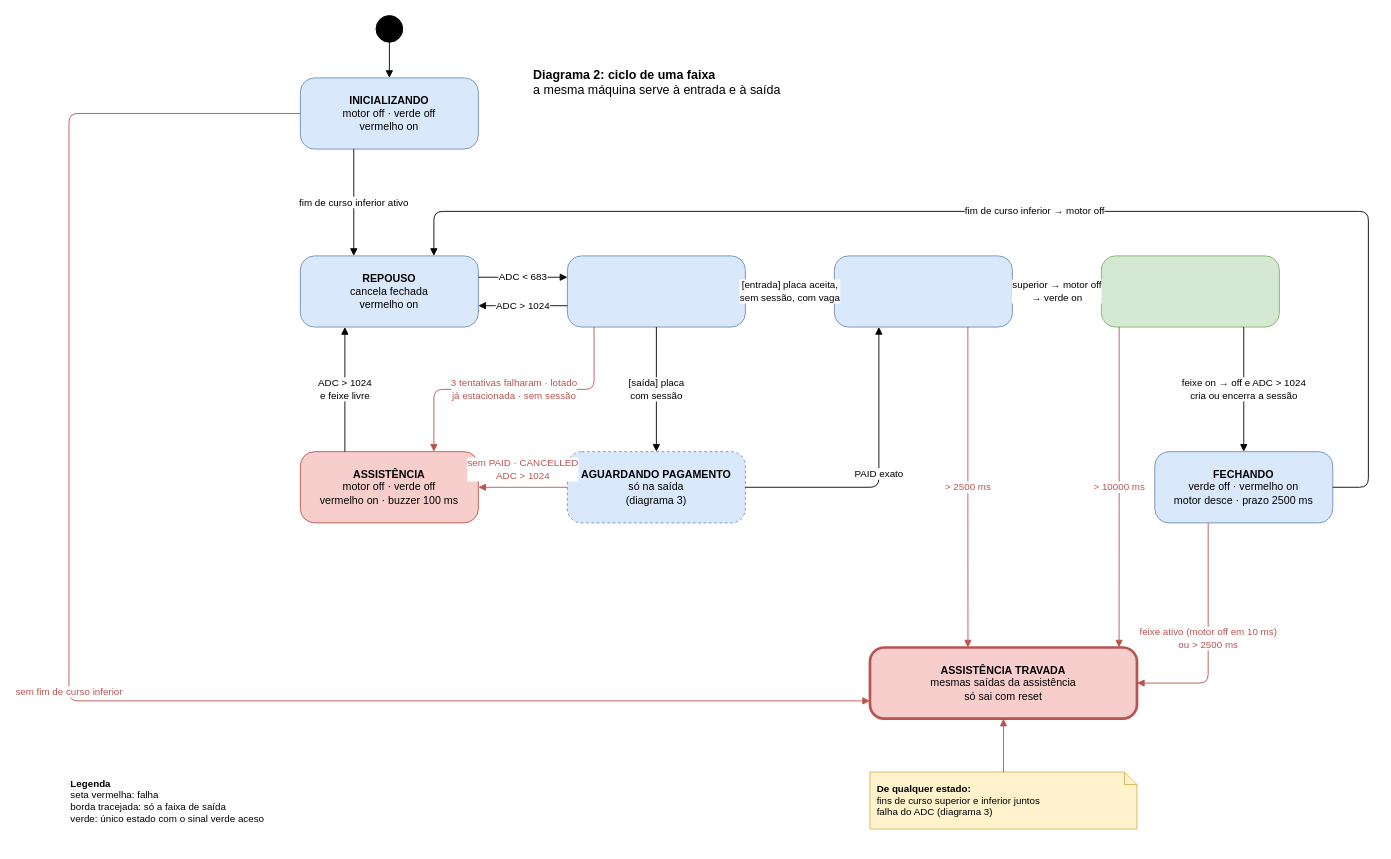
Some shapes in this 1391 by 859 pixel diagram are drawn without their labels. Here are the shapes that lost their labels. From the top down, the box of each, then its label:
(566, 255, 745, 327): IDENTIFICANDO câmera, até 3 tentativas (diagrama 3)
(833, 255, 1012, 327): ABRINDO motor sobe prazo 2500 ms
(1100, 255, 1279, 327): AGUARDANDO PASSAGEM verde on prazo 10000 ms
